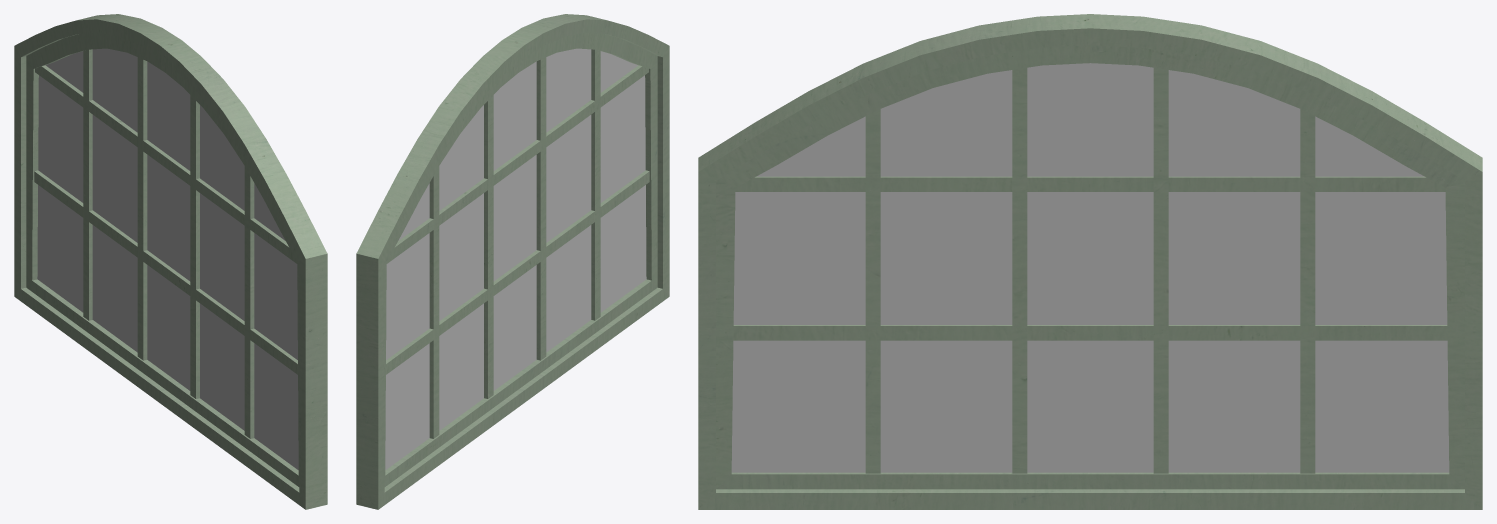
The model's file is SM_WW20_Frame.fbx.
The picture shows the model from 3 angles, left to right: view 1: azimuth 30°, elevation 25°; view 2: azimuth 150°, elevation 25°; view 3: azimuth 270°, elevation 25°; orthographic projection. The views are drawn at different scales.
Parts seen in each view (by area): view 1: SM_WW20_Frame; view 2: SM_WW20_Frame; view 3: SM_WW20_Frame.
Boxes of the visible parts, left/top/right/bottom form: SM_WW20_Frame: left=14, top=14, right=327, bottom=509; SM_WW20_Frame: left=356, top=14, right=669, bottom=509; SM_WW20_Frame: left=698, top=14, right=1482, bottom=509.
Size of the model in its own units: 9.98 by 231 by 156.
Materials: 2 (1 with a texture image).
